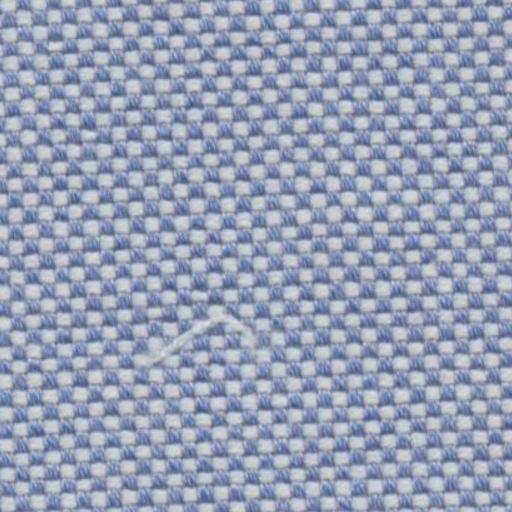DuanSha: (132, 306, 253, 378)
